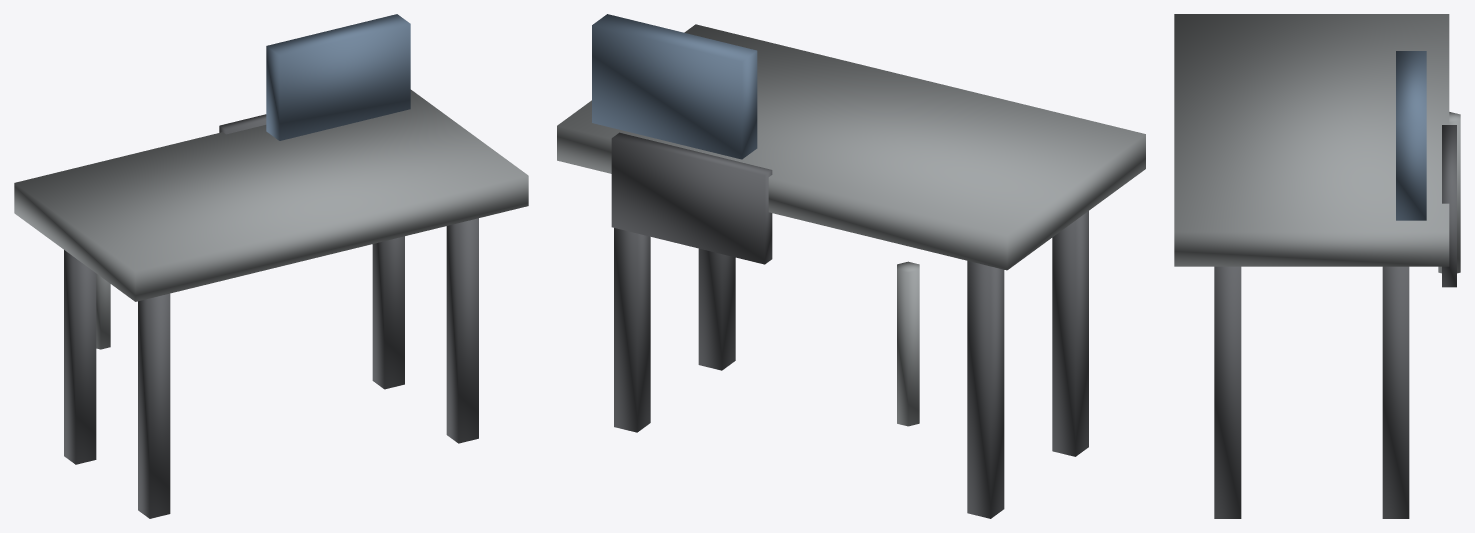
Rendered from welding_table__service.glb.
3 views of the same model, side by side, from view 1: azimuth 30°, elevation 25°; view 2: azimuth 150°, elevation 25°; view 3: azimuth 270°, elevation 25° (orthographic). The views are drawn at different scales.
Visible parts, largest first — view 1: world; view 2: world; view 3: world.
Boxes of the visible parts, x1,y1,x2,y2 form: world: (14,14,528,518); world: (557,14,1145,518); world: (1174,14,1460,518).
Size of the model in its own units: 1.35 by 1.16 by 0.7492.
